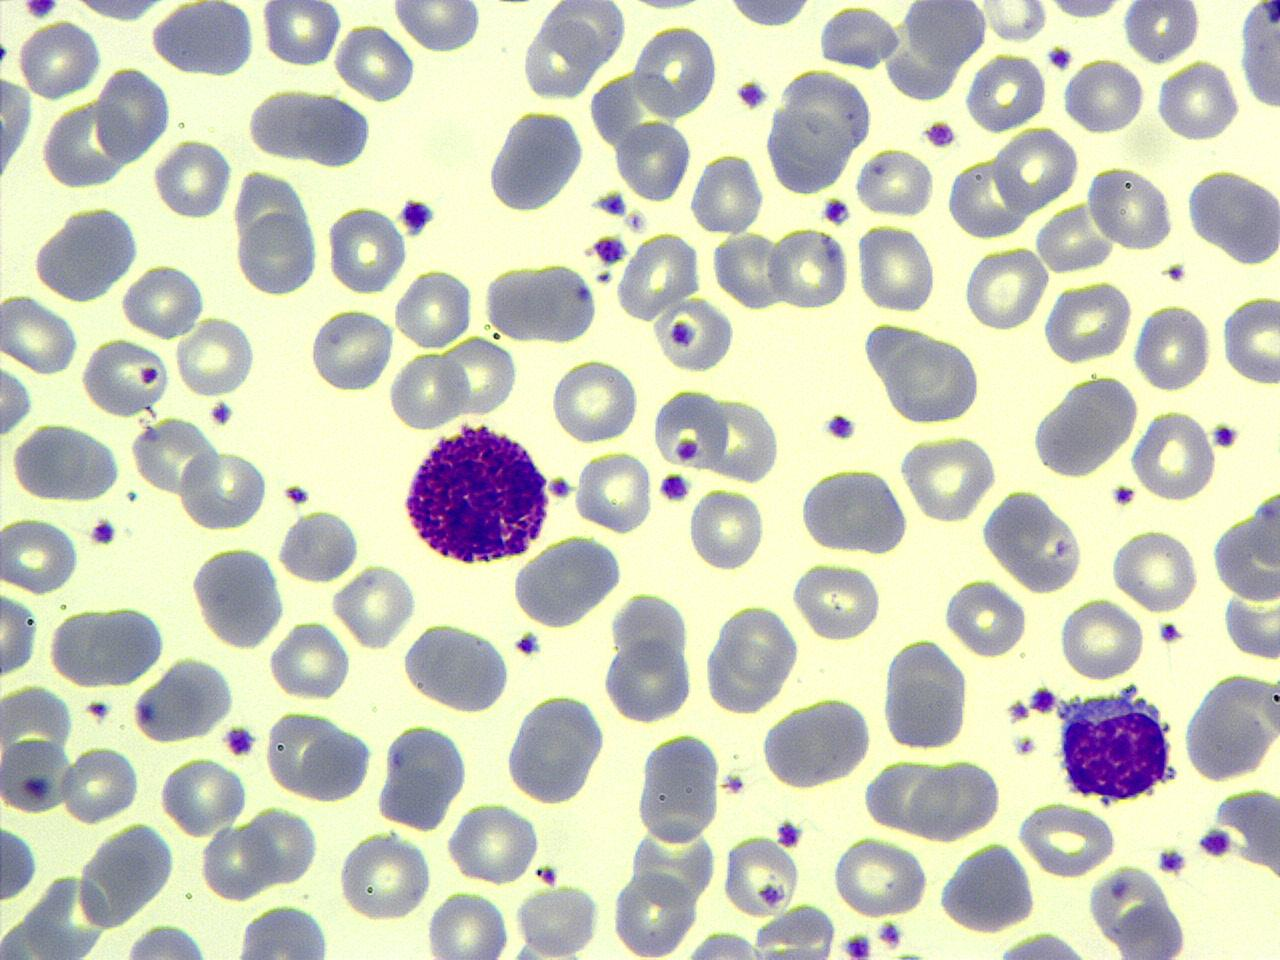Platelets: (396, 193, 437, 240), (220, 723, 259, 759), (590, 233, 628, 268), (735, 77, 771, 112), (656, 470, 692, 504), (920, 119, 958, 149), (1153, 844, 1187, 877), (1197, 826, 1233, 858), (821, 193, 853, 228), (774, 816, 805, 850), (593, 189, 628, 218), (1209, 419, 1241, 452), (89, 515, 120, 548), (874, 919, 905, 951), (1027, 685, 1057, 716), (840, 931, 872, 960), (514, 630, 544, 658), (1045, 44, 1075, 72), (21, 1, 61, 21), (1110, 481, 1138, 509), (1155, 618, 1185, 644), (282, 482, 311, 507), (208, 399, 234, 427), (1006, 696, 1031, 724), (547, 475, 577, 499), (83, 697, 112, 721), (1009, 734, 1038, 757), (722, 770, 748, 795)
RBC: (74, 820, 178, 930), (980, 486, 1084, 595), (879, 636, 974, 752), (189, 543, 288, 650), (45, 604, 168, 690), (480, 260, 602, 346), (797, 464, 911, 556), (636, 728, 724, 846), (131, 652, 241, 744), (9, 419, 124, 506), (896, 432, 1002, 524), (336, 828, 434, 922), (630, 22, 720, 122), (1191, 164, 1279, 266), (1108, 524, 1202, 614), (884, 336, 981, 424), (1128, 408, 1218, 502), (548, 356, 640, 446), (1083, 163, 1175, 253), (601, 636, 694, 724), (616, 229, 702, 324), (93, 64, 173, 165), (830, 835, 930, 917), (790, 558, 884, 644), (855, 221, 939, 316), (959, 244, 1049, 333), (446, 800, 540, 884), (1043, 278, 1133, 366), (611, 868, 696, 960), (908, 760, 1004, 842), (1015, 800, 1117, 876), (308, 306, 395, 395), (990, 126, 1079, 212), (80, 336, 173, 417), (1133, 299, 1213, 394), (327, 202, 406, 297), (178, 447, 269, 530), (236, 210, 319, 298), (174, 312, 257, 401), (720, 601, 800, 693), (128, 416, 220, 497), (1155, 58, 1241, 144), (1059, 596, 1145, 682), (766, 224, 850, 312), (334, 564, 416, 652), (572, 448, 656, 534), (702, 629, 785, 717), (703, 392, 784, 482), (686, 483, 766, 574), (16, 18, 102, 102), (159, 754, 246, 837), (152, 136, 235, 220), (944, 576, 1028, 658), (720, 834, 802, 918), (515, 880, 603, 959), (863, 754, 948, 834), (120, 260, 207, 339), (242, 804, 321, 889), (394, 266, 473, 352), (615, 117, 692, 204), (60, 743, 142, 825), (268, 620, 350, 702), (964, 51, 1046, 132), (277, 506, 363, 584), (688, 150, 766, 236), (386, 348, 467, 430), (0, 292, 80, 375), (650, 385, 728, 469), (443, 333, 519, 418), (335, 21, 414, 102), (1063, 57, 1145, 136), (0, 514, 80, 594), (651, 296, 735, 372), (854, 145, 938, 219), (711, 228, 786, 310), (900, 2, 992, 69), (296, 724, 372, 805), (230, 903, 337, 959), (296, 92, 374, 169), (426, 889, 510, 960), (0, 735, 75, 814), (200, 822, 273, 902), (1034, 200, 1114, 272), (247, 85, 321, 162), (260, 0, 341, 69), (1222, 292, 1280, 386), (1120, 0, 1202, 66), (815, 5, 899, 70), (392, 0, 482, 54), (1, 63, 35, 199), (0, 588, 40, 678), (121, 922, 213, 960), (993, 927, 1101, 959), (975, 0, 1051, 44), (0, 820, 40, 904), (721, 0, 818, 30), (0, 359, 35, 439), (1038, 0, 1132, 23)
WBC: (0, 0, 494, 336), (396, 416, 558, 567), (1053, 685, 1179, 804), (764, 66, 878, 195), (502, 690, 609, 806), (29, 201, 145, 306), (1180, 664, 1280, 784), (483, 105, 590, 216), (1029, 376, 1141, 482), (509, 534, 626, 632), (374, 719, 472, 834), (760, 696, 876, 792), (984, 490, 1093, 592), (882, 635, 974, 754), (190, 539, 290, 648), (79, 823, 179, 930), (400, 618, 512, 714), (800, 461, 910, 557), (138, 653, 243, 752), (49, 603, 167, 690), (8, 417, 122, 506), (935, 838, 1040, 934), (1210, 483, 1280, 618), (147, 2, 258, 80), (229, 903, 336, 960), (1, 58, 36, 207), (1236, 0, 1280, 115), (988, 928, 1100, 959)
